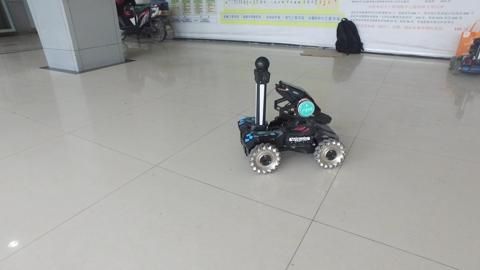bag: (333, 16, 366, 56), (456, 16, 480, 58)
chariot: (235, 55, 347, 174)
